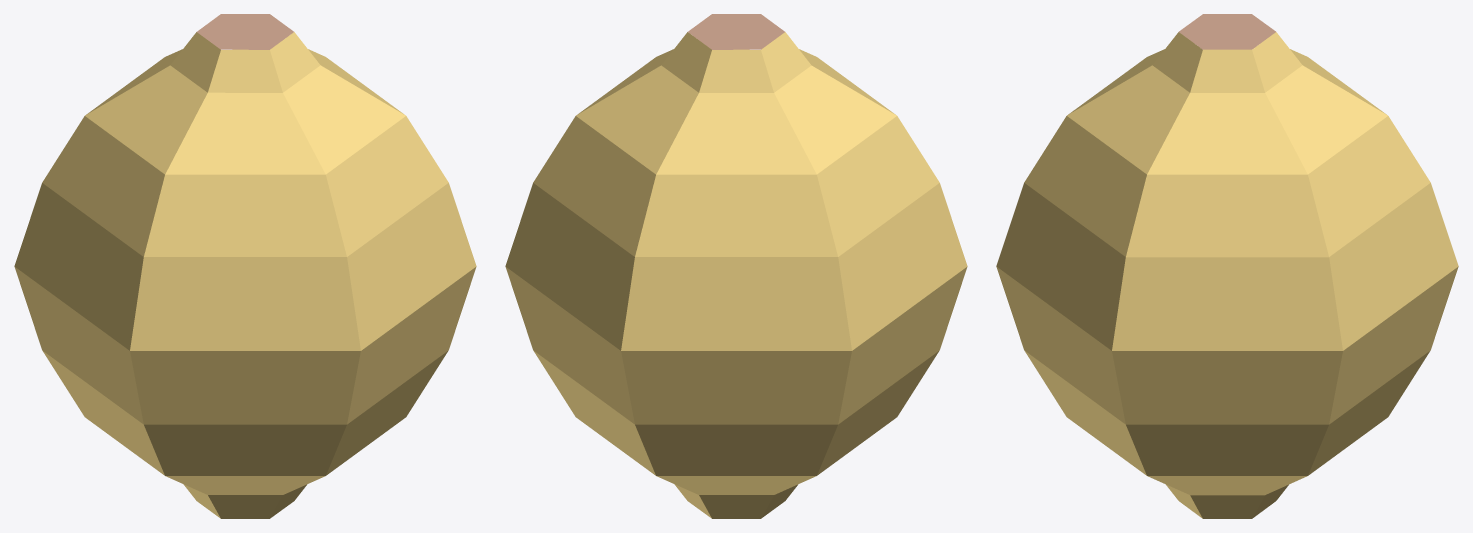
The model's file is lemon.glb.
3 renders of one model, left to right at view 1: azimuth 30°, elevation 25°; view 2: azimuth 150°, elevation 25°; view 3: azimuth 270°, elevation 25°, orthographic.
Parts seen in each view (by area): view 1: lemon; view 2: lemon; view 3: lemon.
Part boxes in pixels (left/top/right/bottom): lemon: left=14, top=14, right=476, bottom=518; lemon: left=505, top=14, right=967, bottom=518; lemon: left=996, top=14, right=1458, bottom=518.
Size of the model in its own units: 0.1732 by 0.224 by 0.2.
